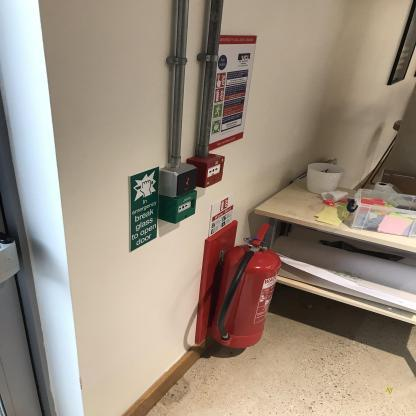Fire Extinguisher: (197, 210, 287, 357)
